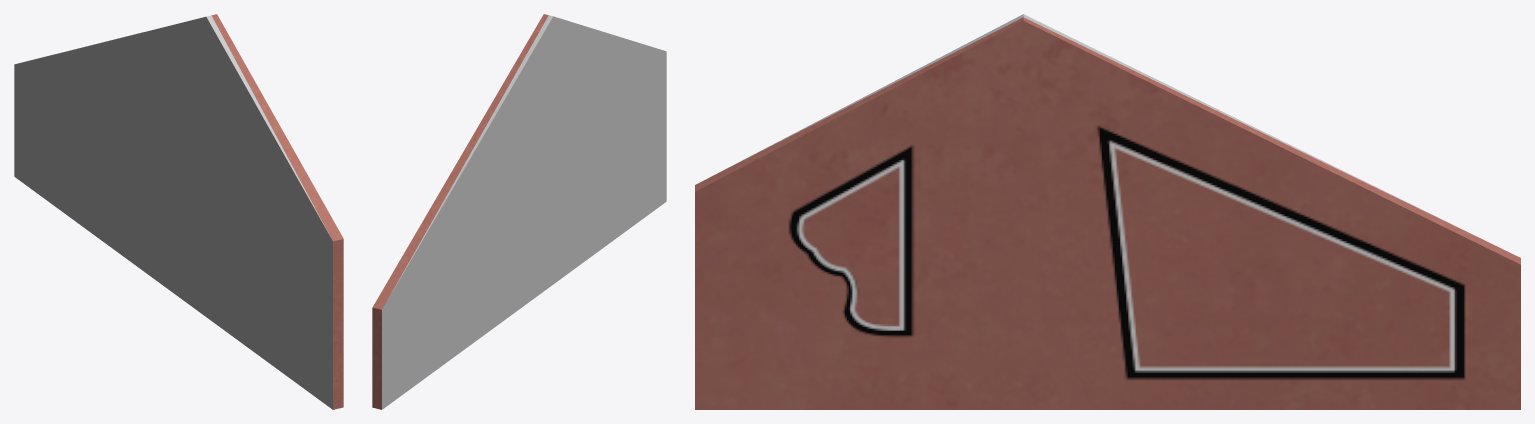
File: SM_TopWall04B.fbx
3 views of the same model, side by side, from view 1: azimuth 30°, elevation 25°; view 2: azimuth 150°, elevation 25°; view 3: azimuth 270°, elevation 25° (orthographic). The views are drawn at different scales.
Parts seen in each view (by area): view 1: SM_TopWall04B; view 2: SM_TopWall04B; view 3: SM_TopWall04B.
Part boxes in pixels (x1,y1,x2,y2): SM_TopWall04B: (14, 14, 343, 409); SM_TopWall04B: (372, 14, 666, 409); SM_TopWall04B: (695, 14, 1520, 409).
Bounding box in the file's own units: 5.2 × 267 × 139.
